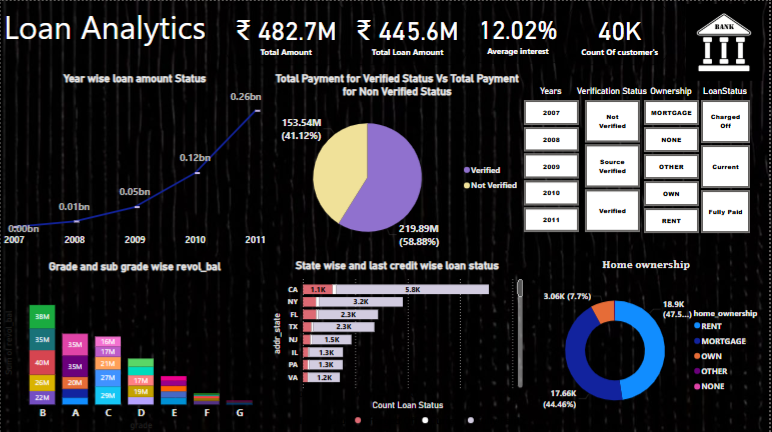

Layout of this report page (visuals, bound fields, positions):
{"tool":"powerbi","page":{"name":"Dashboard","canvas":[1280,720],"ordinal":1},"visuals":[{"type":"card","fields":{"Values":["Measures Table.Average interest"]},"box":[774.7,0,171.4,103.7],"z":0},{"type":"card","fields":{"Values":["Measures Table.Total Amount"]},"box":[373,0,201.6,106.6],"z":1000},{"type":"slicer","title":"LoanStatus","fields":{"Values":["Finance_1.loan_status"]},"box":[1139.9,137.6,140.1,254.5],"z":2000},{"type":"card","fields":{"Values":["Measures Table.Count Of customer's"]},"box":[946.1,0,167,106.6],"z":3000},{"type":"textbox","box":[0,0,354.4,103.5],"z":4000},{"type":"lineChart","title":"Year wise loan amount Status","fields":{"Category":["Finance_1.issue_d.Variation.Date Hierarchy.Year","Finance_1.issue_d.Variation.Date Hierarchy.Quarter","Finance_1.issue_d.Variation.Date Hierarchy.Month","Finance_1.issue_d.Variation.Date Hierarchy.Day"],"Y":["Sum(Finance_1.loan_amnt)"]},"box":[0,117.8,446.4,301.1],"z":5000},{"type":"columnChart","title":"Grade and sub grade wise revol_bal","fields":{"Category":["Finance_1.grade"],"Y":["Sum(Finance_2.revol_bal)"],"Series":["Finance_1.sub_grade"]},"box":[0,431.1,447,288.6],"z":6000},{"type":"pieChart","title":"Total Payment for Verified Status Vs Total Payment for Non Verified Status","fields":{"Y":["Sum(Finance_2.total_pymnt)"],"Category":["Finance_1.verification_status"]},"box":[446.4,118.1,427.7,309.6],"z":7000},{"type":"barChart","title":"State wise and last credit wise loan status","fields":{"Category":["Finance_1.addr_state"],"Y":["Measures Table.Count Loan Status"],"Series":["Finance_1.loan_status"]},"box":[446.4,430.6,427.7,289.4],"z":8000},{"type":"donutChart","title":" ","fields":{"Y":["CountNonNull(Finance_1.home_ownership)"],"Category":["Summarize table.home_ownership"]},"box":[888.5,429.1,391.7,289.4],"z":9000},{"type":"slicer","title":"Ownership","fields":{"Values":["Finance_1.home_ownership"]},"box":[1044.9,137.6,149.8,254.5],"z":10000},{"type":"slicer","title":"Verification Status","fields":{"Values":["Finance_1.verification_status"]},"box":[946.1,138.2,149.8,253.4],"z":11000},{"type":"textbox","box":[884.2,421.9,396,50.4],"z":12000},{"type":"slicer","title":"Years","fields":{"Values":["Finance_1.issue_d.Variation.Date Hierarchy.Year"]},"box":[845.3,138.2,149.8,253.4],"z":13000},{"type":"card","fields":{"Values":["Measures Table.Sum of Loan Amount"]},"box":[574.6,0,203,106.6],"z":14000},{"type":"image","box":[1129.9,0,150.6,137.7],"z":15000}]}

Visuals, with their boxes in screenshot pixels (x1, y1, x2, y2), scaled from the page's 1280x720 canvas onto the 772x432 screenshot:
card - Measures Table.Average interest: select_region(467, 0, 571, 62)
card - Measures Table.Total Amount: select_region(225, 0, 347, 64)
"LoanStatus" slicer: select_region(688, 83, 771, 235)
card - Measures Table.Count Of customer's: select_region(571, 0, 671, 64)
textbox: select_region(0, 0, 214, 62)
"Year wise loan amount Status" lineChart: select_region(0, 71, 269, 251)
"Grade and sub grade wise revol_bal" columnChart: select_region(0, 259, 270, 431)
"Total Payment for Verified Status Vs Total Payment for Non Verified Status" pieChart: select_region(269, 71, 527, 257)
"State wise and last credit wise loan status" barChart: select_region(269, 258, 527, 431)
" " donutChart: select_region(536, 257, 771, 431)
"Ownership" slicer: select_region(630, 83, 721, 235)
"Verification Status" slicer: select_region(571, 83, 661, 235)
textbox: select_region(533, 253, 771, 283)
"Years" slicer: select_region(510, 83, 600, 235)
card - Measures Table.Sum of Loan Amount: select_region(347, 0, 469, 64)
image: select_region(681, 0, 771, 83)
